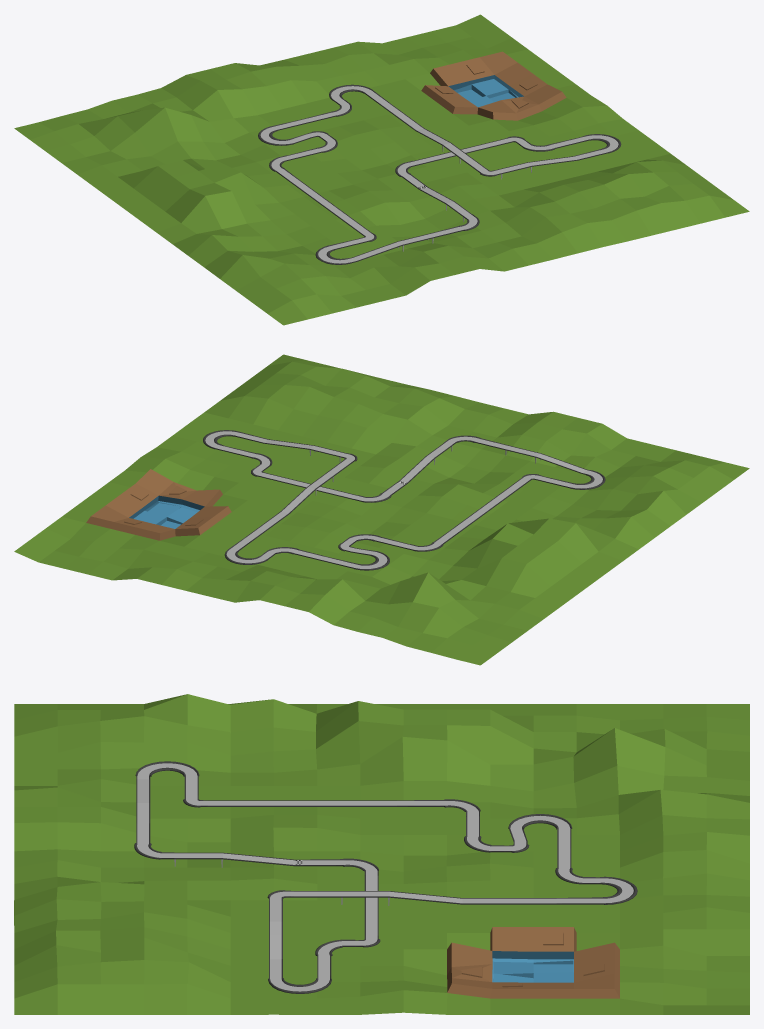
File: track1best.fbx
The picture shows the model from 3 angles, top to bottom: view 1: azimuth 30°, elevation 25°; view 2: azimuth 150°, elevation 25°; view 3: azimuth 270°, elevation 25°; orthographic projection. The views are drawn at different scales.
Visible parts, largest first — view 1: Plane; view 2: Plane; view 3: Plane, CurvedTurn.003, CurvedTurn, Bridge.010, Bridge.001, CurvedTurn.008, CurvedTurn.001, Bridge.002, Bridge.003.
Part boxes in pixels (x1=…): Plane: x1=14, y1=14, x2=749, y2=325; Plane: x1=14, y1=354, x2=749, y2=665; Plane: x1=14, y1=694, x2=749, y2=1014; CurvedTurn.003: x1=510, y1=815, x2=570, y2=848; CurvedTurn: x1=556, y1=878, x2=633, y2=903; Bridge.010: x1=341, y1=891, x2=462, y2=905; Bridge.001: x1=270, y1=901, x2=281, y2=959; CurvedTurn.008: x1=270, y1=959, x2=329, y2=991; CurvedTurn.001: x1=137, y1=763, x2=197, y2=795; Bridge.002: x1=174, y1=853, x2=295, y2=867; Bridge.003: x1=137, y1=779, x2=148, y2=823.
Bounding box in the file's own units: 450 × 450 × 38.59.
